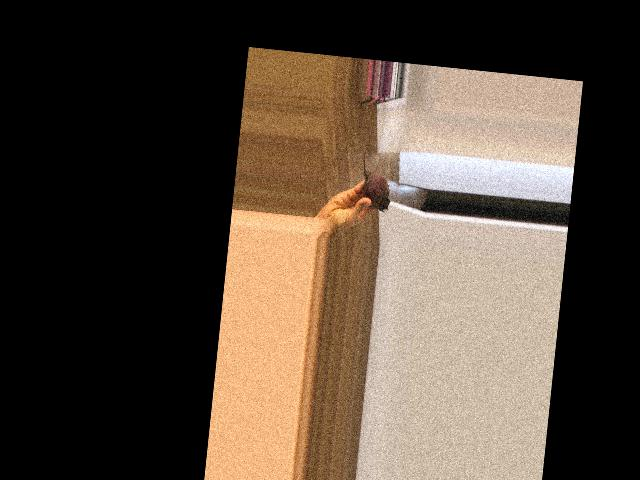beet: (358, 144, 395, 211)
